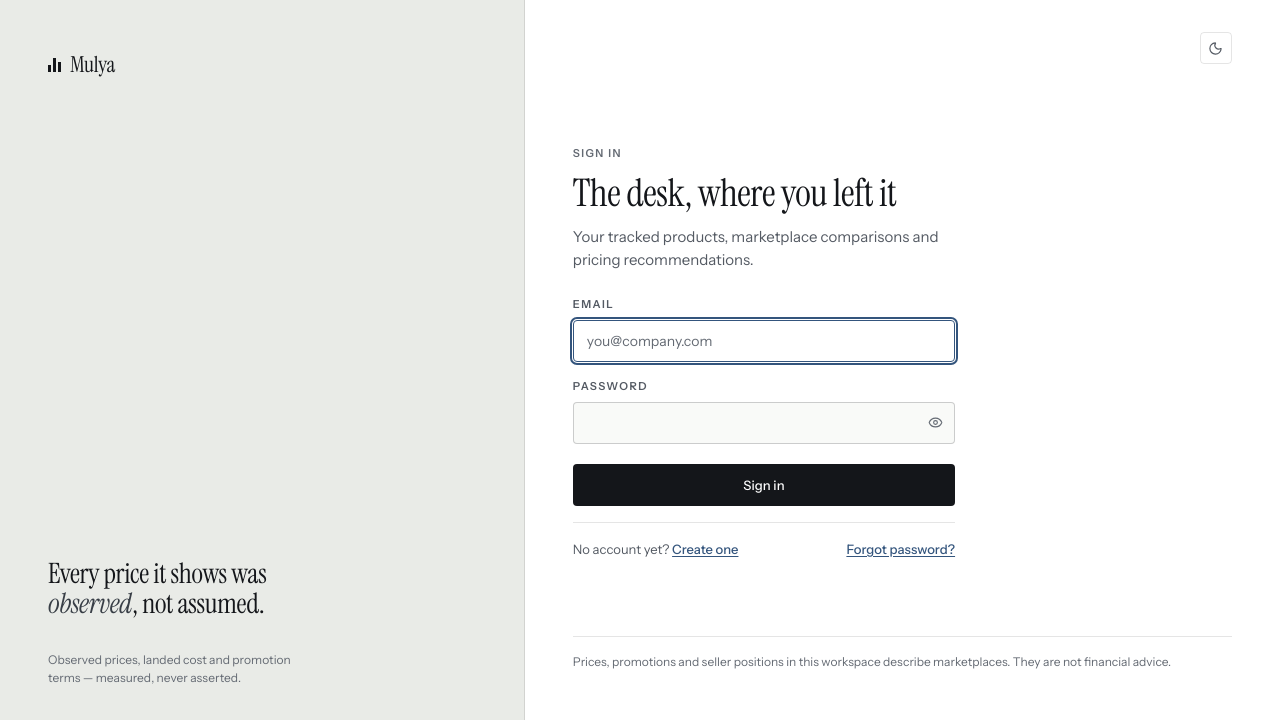
Test: UI-AUTH — the door › UI-AUTH-03: rejected credentials show the server's wording and leave the browser signed out
The image size is (1280, 720).
Type "operator@example.com" into the field labelled "Email" at [764, 341], box [573, 320, 955, 362]
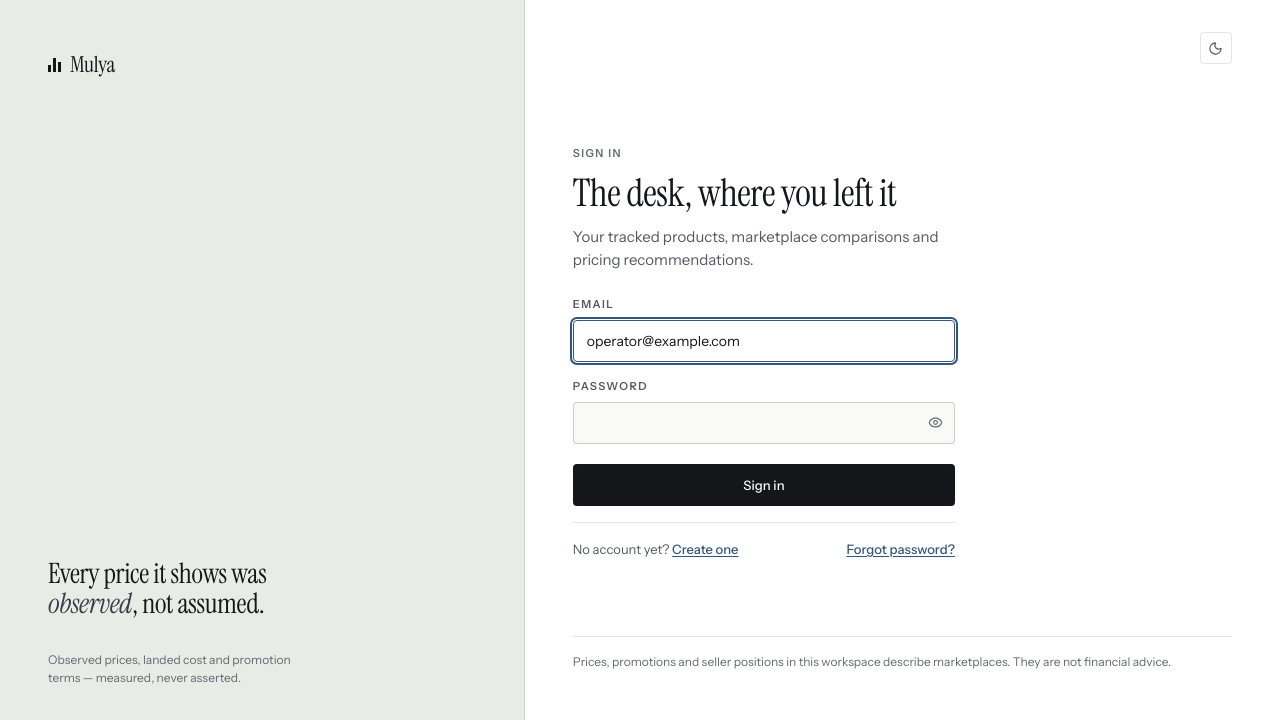
Type "wrong-password-entirely" into the password field labelled "Password" at [764, 423], box [573, 402, 955, 444]
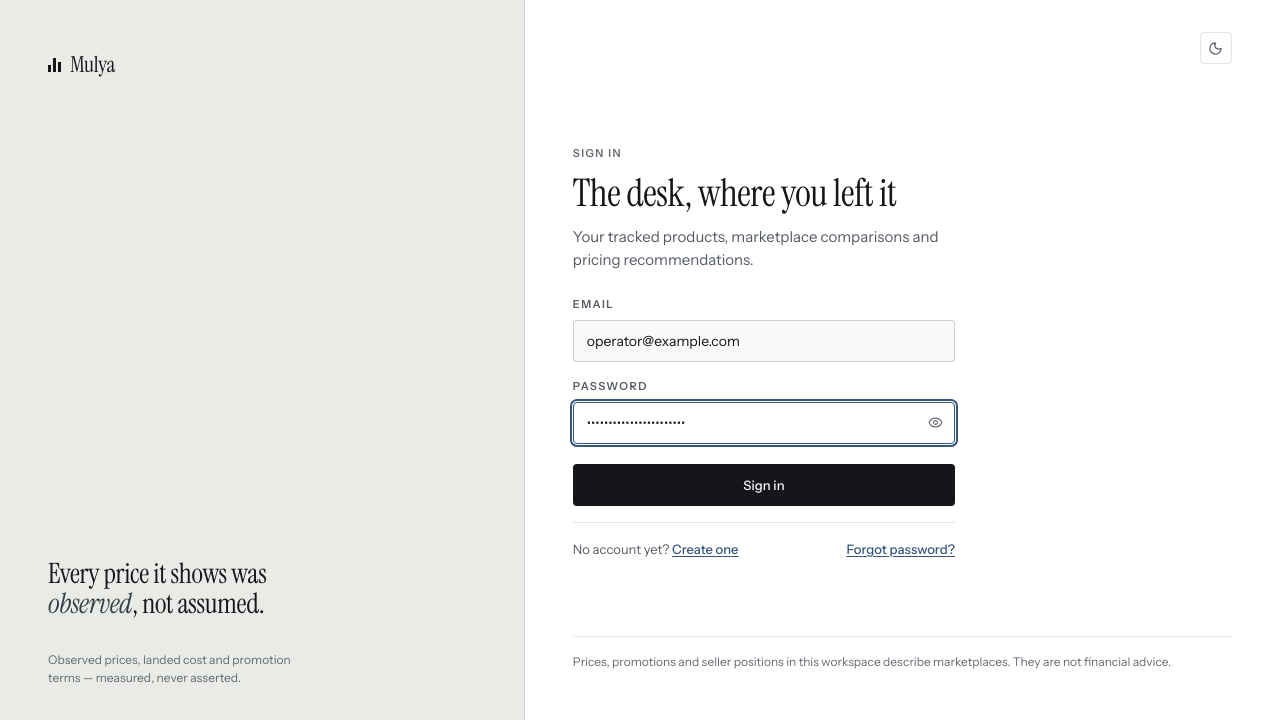
Click the button "Sign in" at [764, 485], box [573, 464, 955, 506]
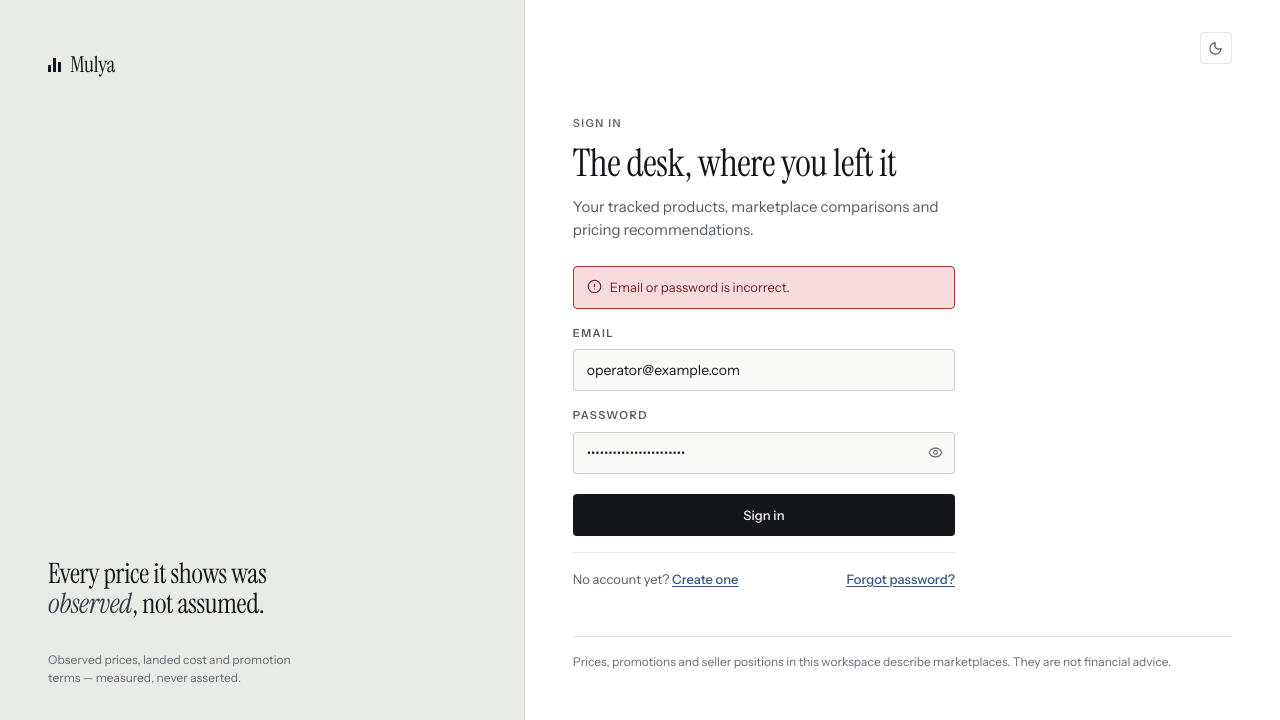
Result: the message reads "Email or password is incorrect." at [610, 279, 790, 295]
